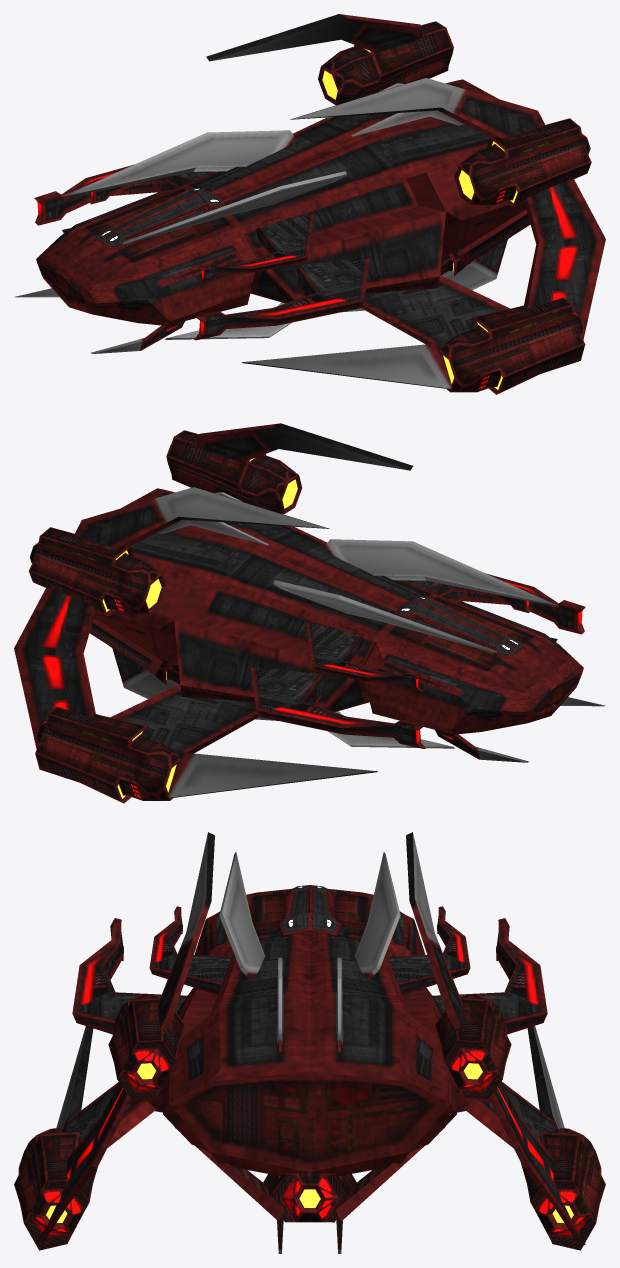
The model's file is pirateBattleship.FBX.
The picture shows the model from 3 angles, top to bottom: view 1: azimuth 30°, elevation 25°; view 2: azimuth 150°, elevation 25°; view 3: azimuth 270°, elevation 25°; orthographic projection. The views are drawn at different scales.
Visible parts, largest first — view 1: Pirate_Battleship; view 2: Pirate_Battleship; view 3: Pirate_Battleship.
Part boxes in pixels (box(x1,y1,x2,y2)): Pirate_Battleship: box(14, 14, 605, 394); Pirate_Battleship: box(14, 423, 605, 803); Pirate_Battleship: box(14, 832, 605, 1253).
Bounding box in the file's own units: 46.96 × 24.26 × 41.15.
Materials: 1 (1 with a texture image).
